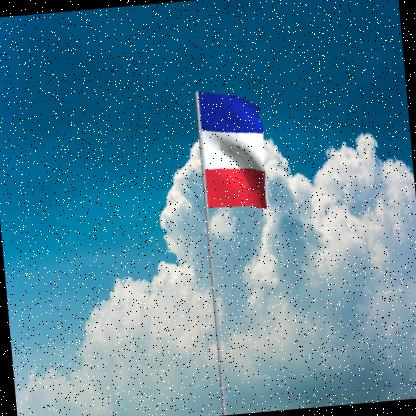fr: (200, 88, 273, 216)
